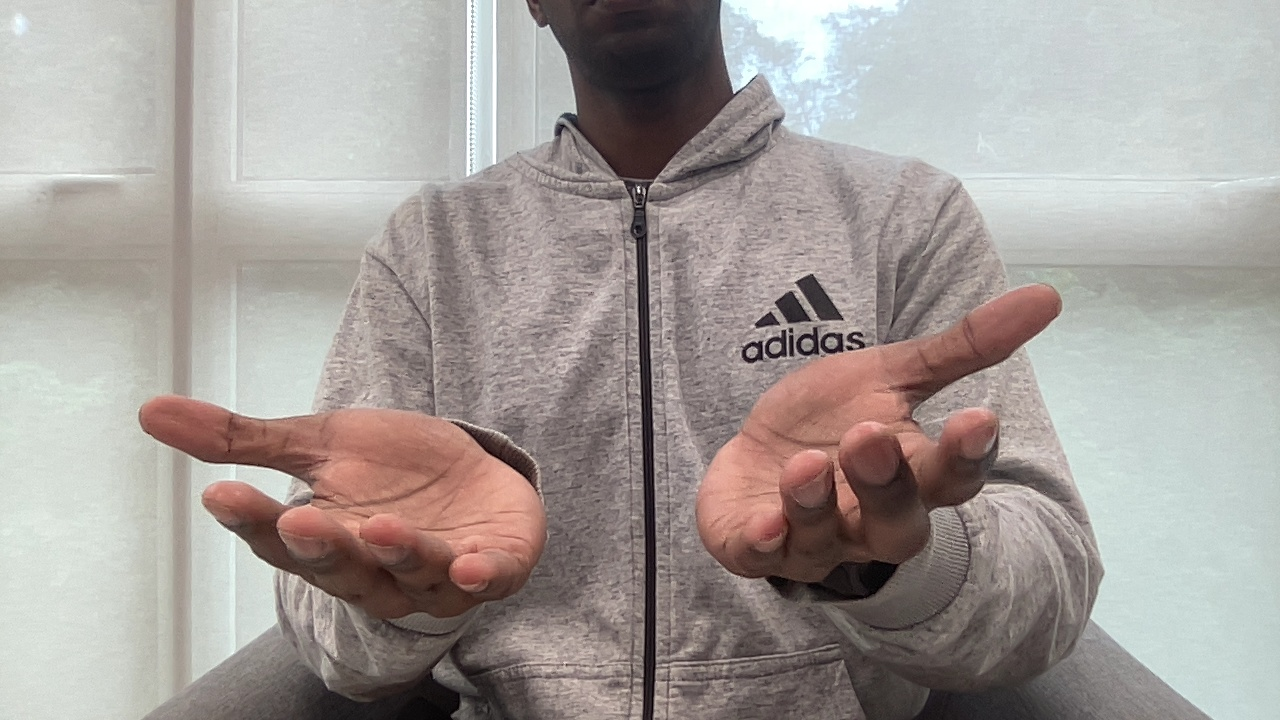give: (132, 275, 1075, 636)
